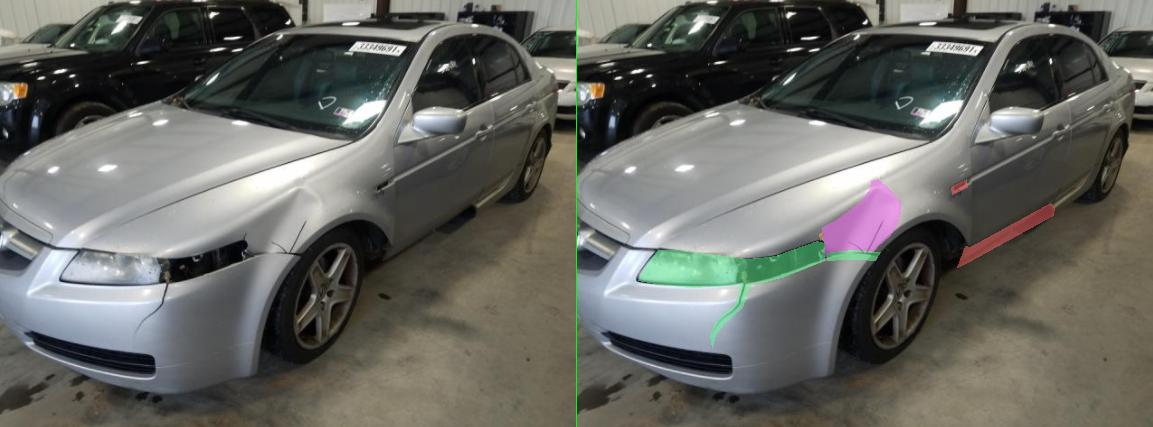Broken part: (122, 241, 494, 287), (266, 283, 346, 347), (500, 250, 607, 260)
Dent: (490, 179, 647, 256)
Missing part: (761, 203, 955, 267), (749, 179, 781, 194)
Paint chip: (581, 222, 613, 253), (542, 241, 576, 253), (542, 241, 572, 253), (484, 231, 494, 240), (486, 232, 494, 240)
